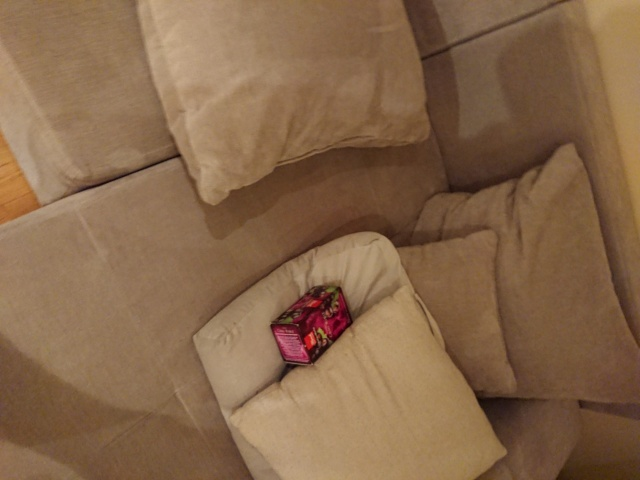Franck Black Currant Tea 60g: (267, 283, 356, 368)
